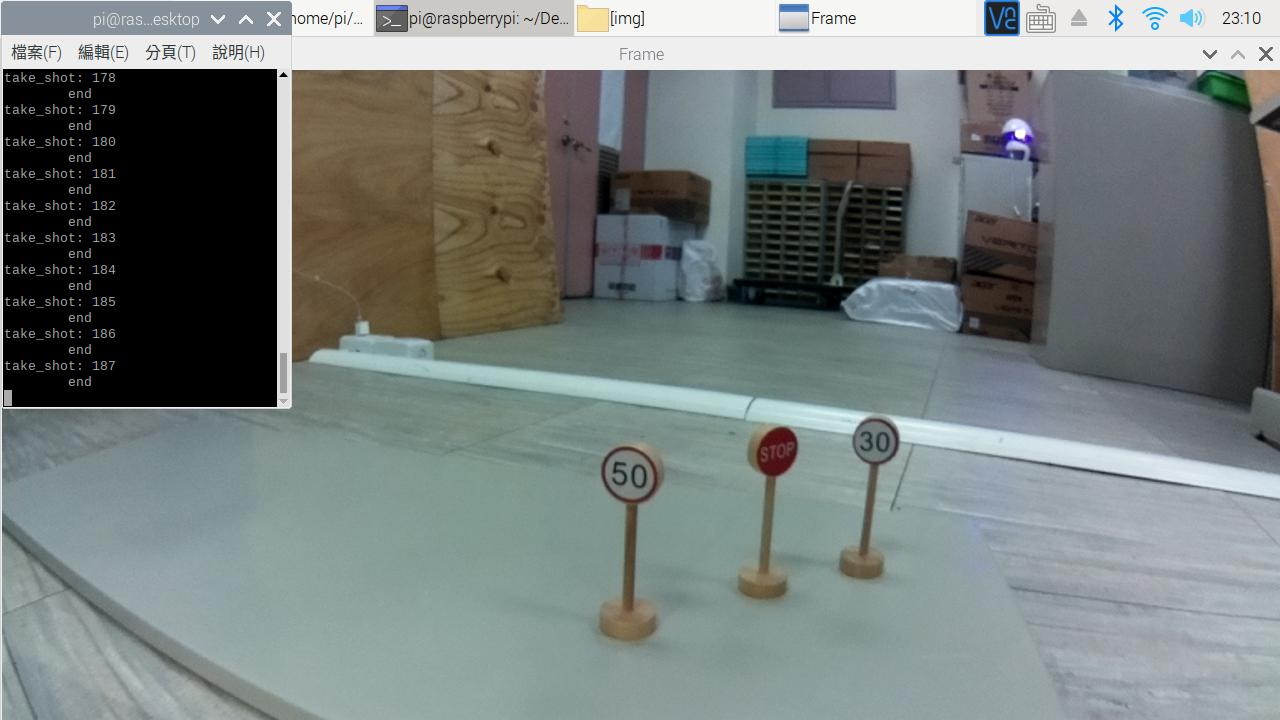Speed30: (852, 413, 907, 473)
Speed50: (591, 434, 666, 521)
Stop: (738, 421, 808, 487)
